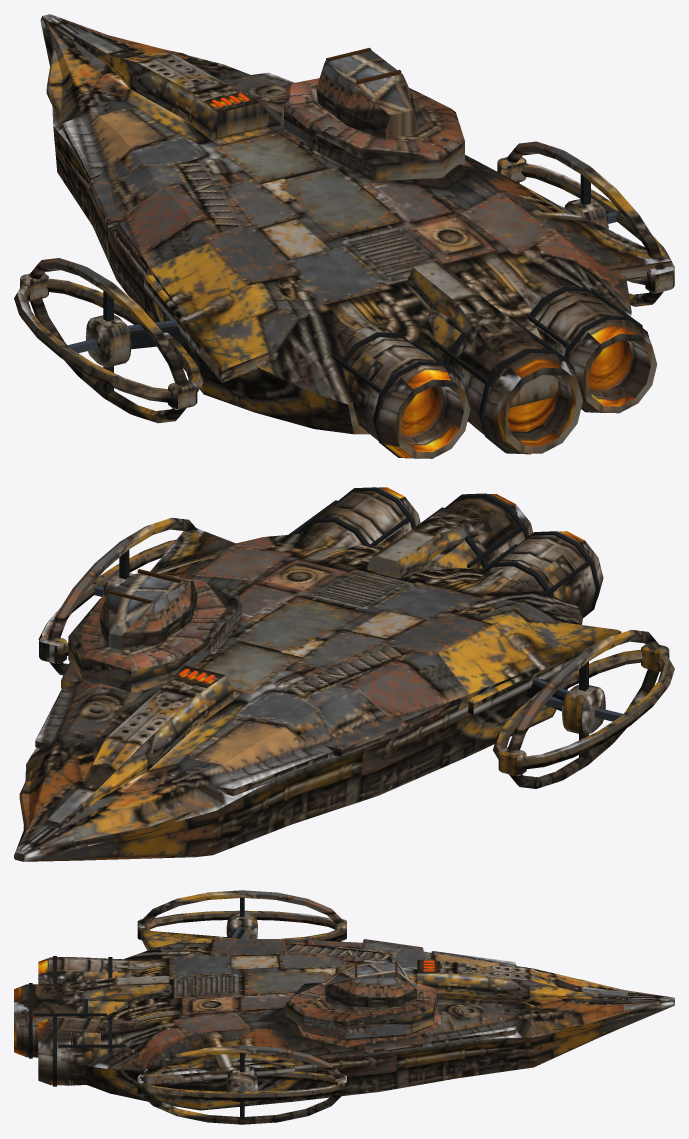
The model's file is pirate-boarding-raider.obj.
The picture shows the model from 3 angles, top to bottom: view 1: azimuth 30°, elevation 25°; view 2: azimuth 150°, elevation 25°; view 3: azimuth 270°, elevation 25°; orthographic projection. The views are drawn at different scales.
Visible parts, largest first — view 1: wedge.pressure.hull, offset.bridge.base, dorsal.weapon.rail, engine.1.nozzle, engine.0.nozzle, offset.bridge.canopy, engine.2.nozzle, center.engine.armored.cowl, port.grapple.vertical.frame, port.grapple.horizontal.frame, boarding.arm.armor.1, engine.0.motor (+17 smaller); view 2: wedge.pressure.hull, dorsal.weapon.rail, offset.bridge.base, offset.bridge.canopy, port.grapple.vertical.frame, port.grapple.horizontal.frame, center.engine.armored.cowl, engine.0.motor, boarding.arm.armor.1, engine.2.motor, starboard.grapple.vertical.frame, engine.1.motor (+13 smaller); view 3: wedge.pressure.hull, offset.bridge.base, dorsal.weapon.rail, offset.bridge.canopy, starboard.grapple.vertical.frame, center.engine.armored.cowl, starboard.grapple.horizontal.frame, engine.2.motor, engine.2.nozzle, boarding.arm.armor.-1, port.grapple.horizontal.frame, engine.1.nozzle (+10 smaller).
Boxes of the visible parts, bbox=[...] form: wedge.pressure.hull: bbox=[40, 14, 631, 434]; offset.bridge.base: bbox=[284, 78, 464, 181]; dorsal.weapon.rail: bbox=[73, 32, 268, 139]; engine.1.nozzle: bbox=[468, 341, 582, 453]; engine.0.nozzle: bbox=[362, 353, 470, 458]; offset.bridge.canopy: bbox=[316, 50, 418, 139]; engine.2.nozzle: bbox=[553, 308, 657, 413]; center.engine.armored.cowl: bbox=[408, 261, 558, 407]; port.grapple.vertical.frame: bbox=[28, 258, 188, 423]; port.grapple.horizontal.frame: bbox=[14, 278, 202, 402]; boarding.arm.armor.1: bbox=[144, 275, 271, 382]; engine.0.motor: bbox=[337, 315, 429, 433]; wedge.pressure.hull: bbox=[14, 534, 582, 861]; dorsal.weapon.rail: bbox=[45, 665, 233, 828]; offset.bridge.base: bbox=[68, 578, 241, 692]; offset.bridge.canopy: bbox=[99, 573, 197, 650]; port.grapple.vertical.frame: bbox=[507, 630, 660, 788]; port.grapple.horizontal.frame: bbox=[493, 649, 674, 769]; center.engine.armored.cowl: bbox=[367, 508, 492, 577]; engine.0.motor: bbox=[475, 542, 585, 613]; boarding.arm.armor.1: bbox=[468, 621, 621, 715]; engine.2.motor: bbox=[295, 498, 401, 547]; starboard.grapple.vertical.frame: bbox=[47, 517, 197, 675]; engine.1.motor: bbox=[422, 504, 514, 570]; wedge.pressure.hull: bbox=[86, 937, 674, 1110]; offset.bridge.base: bbox=[286, 982, 437, 1040]; dorsal.weapon.rail: bbox=[417, 959, 627, 1000]; offset.bridge.canopy: bbox=[325, 962, 417, 1006]; starboard.grapple.vertical.frame: bbox=[139, 1045, 344, 1124]; center.engine.armored.cowl: bbox=[53, 976, 169, 1005]; starboard.grapple.horizontal.frame: bbox=[143, 1071, 341, 1100]; engine.2.motor: bbox=[71, 1017, 152, 1085]; engine.2.nozzle: bbox=[38, 1017, 73, 1085]; boarding.arm.armor.-1: bbox=[141, 1056, 294, 1084]; port.grapple.horizontal.frame: bbox=[141, 910, 343, 940]; engine.1.nozzle: bbox=[14, 984, 48, 1057].
Size of the model in its own units: 13.07 by 3.99 by 19.75.
Materials: 6 (2 with a texture image).
